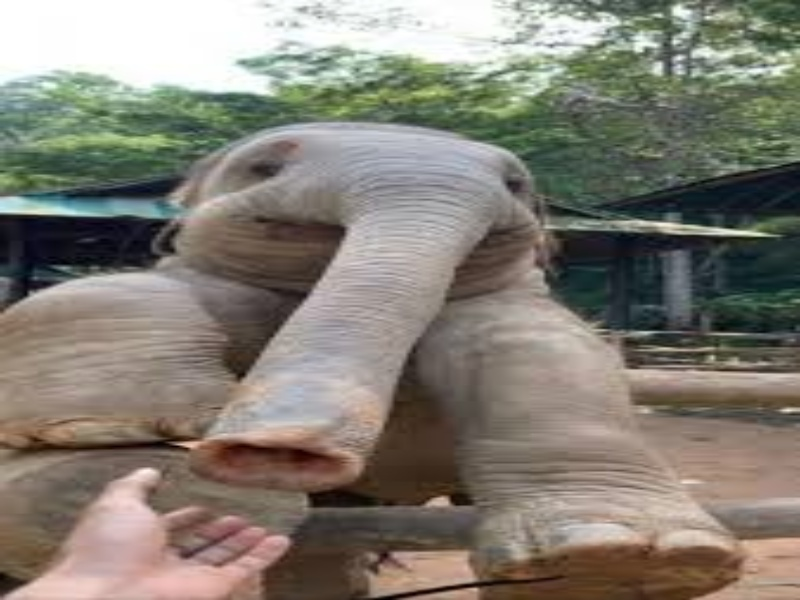elephant: (57, 70, 757, 582)
